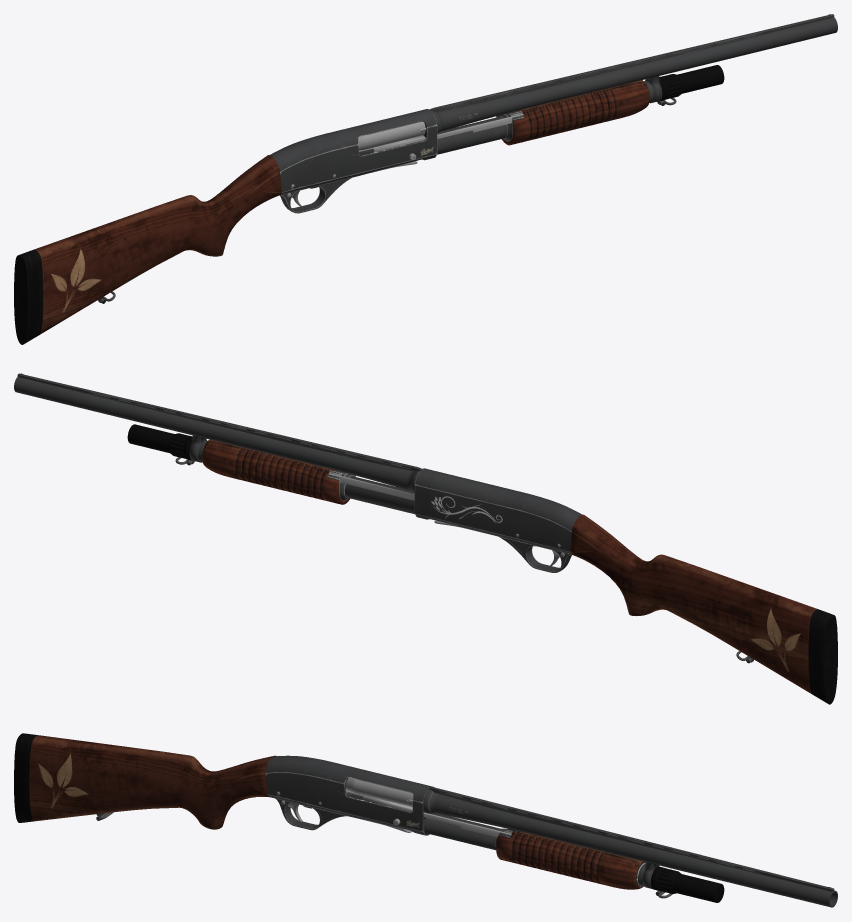
File: shotGunGravirovka.gltf
3 views of the same model, one above another, from view 1: azimuth 30°, elevation 25°; view 2: azimuth 150°, elevation 25°; view 3: azimuth 330°, elevation 25° (orthographic).
Visible parts, largest first — view 1: Mesh.001, Mesh.002; view 2: Mesh.001, Mesh.002; view 3: Mesh.001, Mesh.002.
Boxes of the visible parts, <box> form: Mesh.001: <box>14,14,837,344</box>; Mesh.002: <box>358,80,649,152</box>; Mesh.001: <box>14,373,837,704</box>; Mesh.002: <box>202,439,414,504</box>; Mesh.001: <box>14,733,837,907</box>; Mesh.002: <box>345,778,645,889</box>.
Size of the model in its own units: 5.37 by 0.8548 by 0.2216.
1 material, 1 textured.
